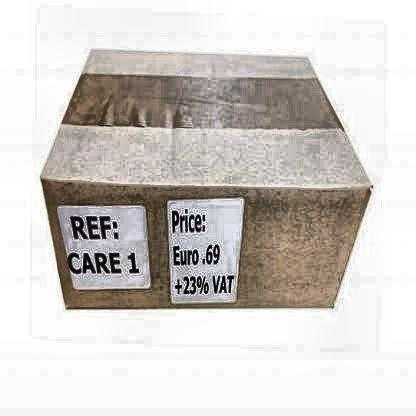no defect parcel: (35, 31, 380, 329)
